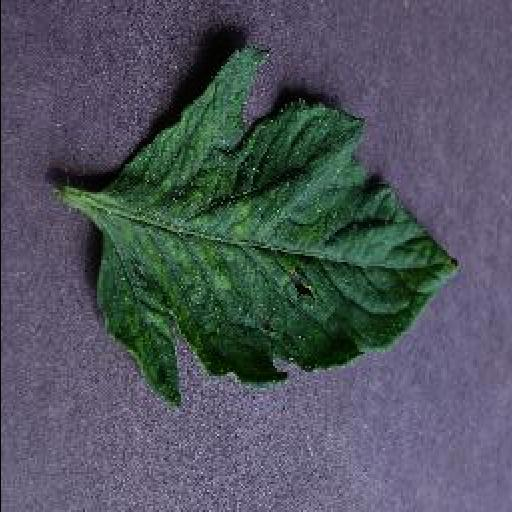Mosaic Virus: (95, 45, 461, 411)
